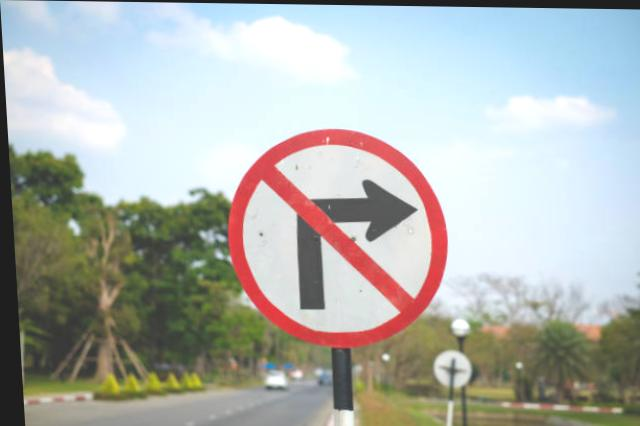not_turn_right: (218, 124, 446, 355)
